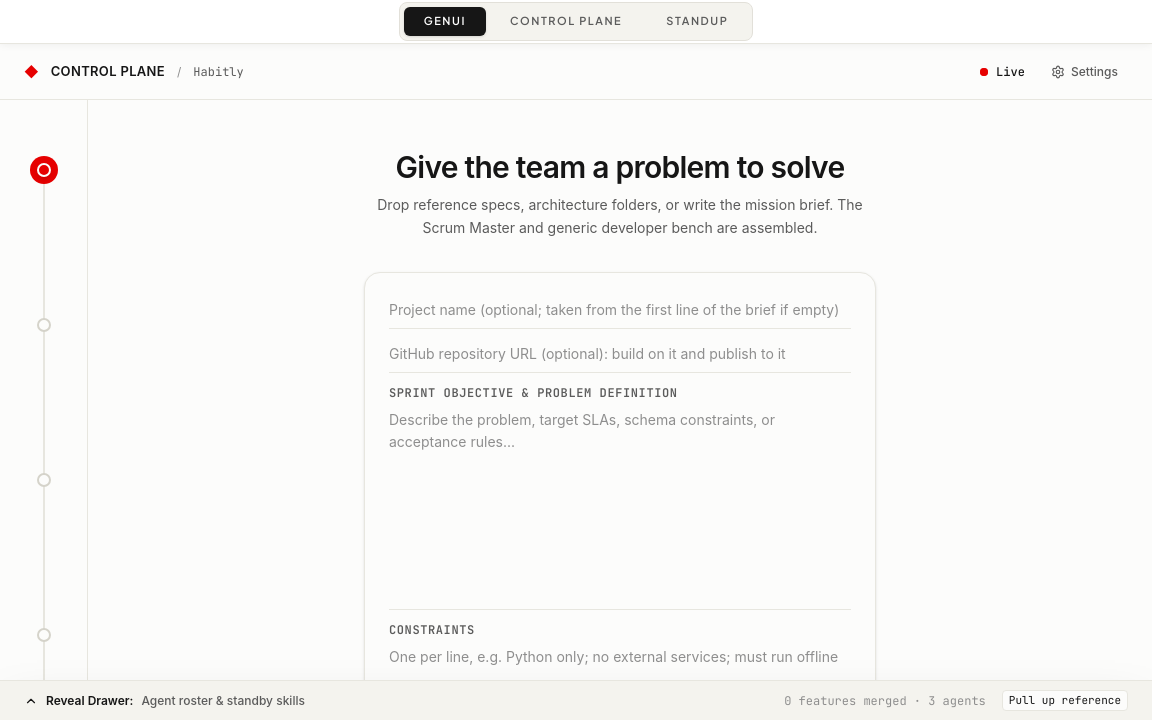
Test: the control plane with a real team › shows the real project and numbers, and none of the demo content
The image size is (1152, 720).
Click the tab "Control Plane" at x=566, y=22, box [490,7,642,36]
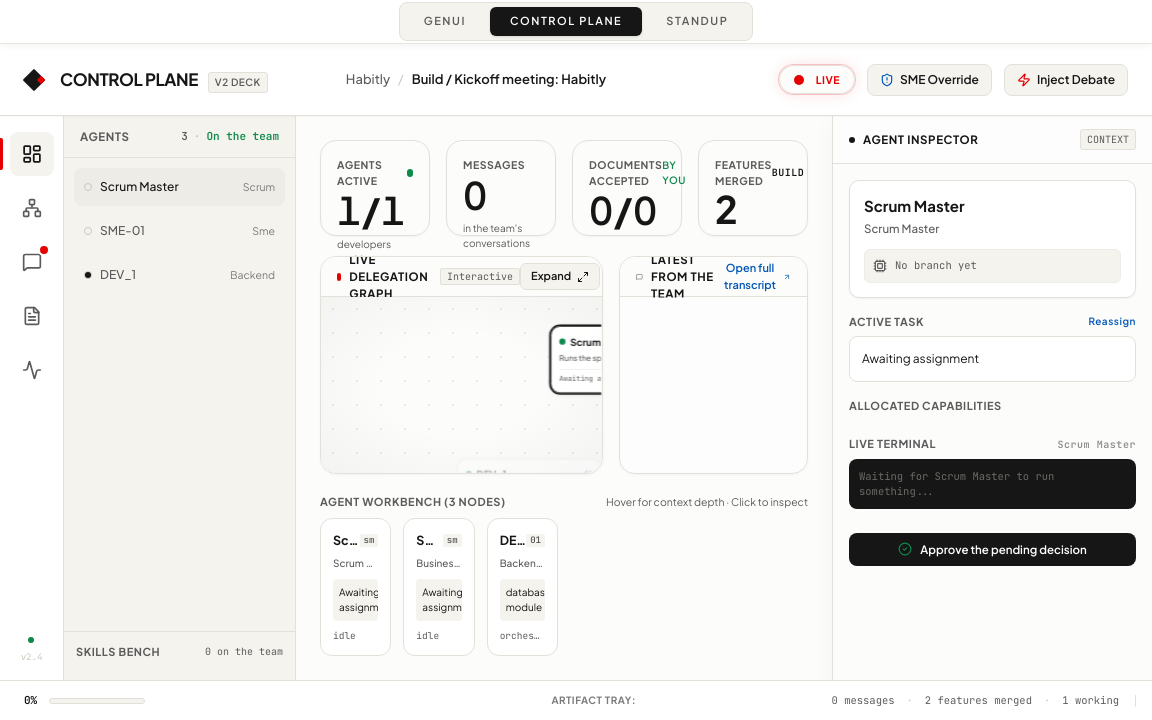
Expected: the button titled "Inject an architectural challenge into the active meet" is shown, [1004,64,1128,96]
Expected: the text "Habitly" is shown, [346,70,390,89]
Expected: the text "2 features merged" is shown, [925,693,1032,708]
